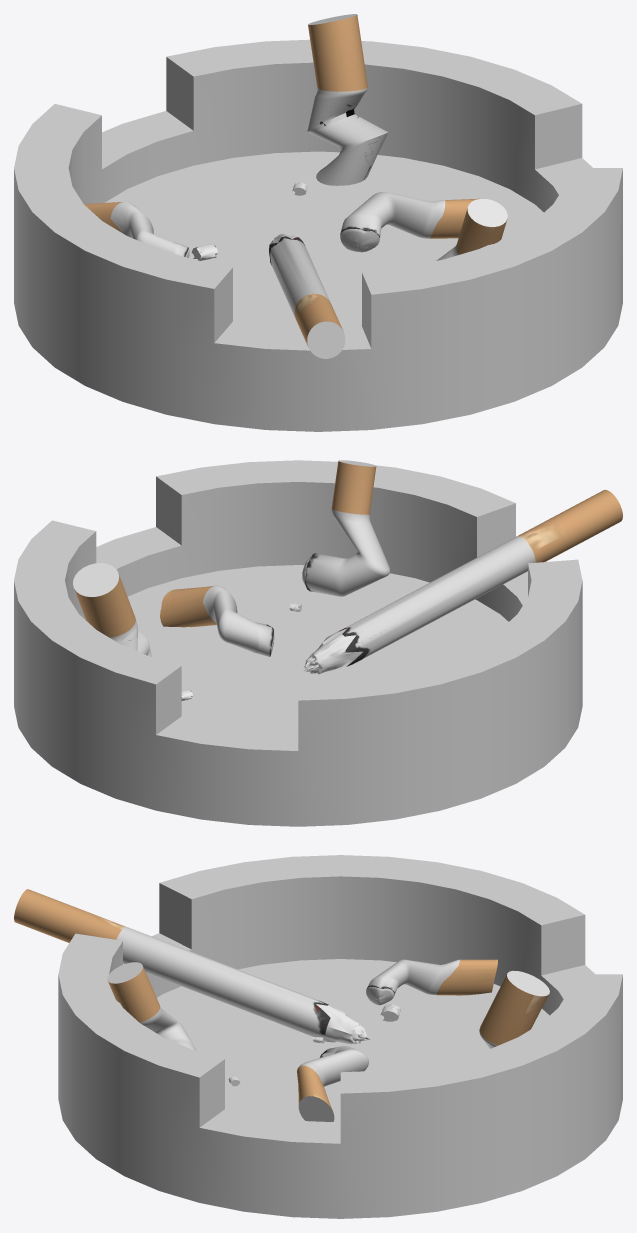
Rendered from ashtray.fbx.
The picture shows the model from 3 angles, top to bottom: view 1: azimuth 30°, elevation 25°; view 2: azimuth 150°, elevation 25°; view 3: azimuth 270°, elevation 25°; orthographic projection. The views are drawn at different scales.
Visible parts, largest first — view 1: ashtray, Ciggaret.001, MainCiggaret, Ciggaret.003, Ciggaret.002, Ciggaret.004; view 2: ashtray, MainCiggaret, Ciggaret.002, Ciggaret.003, Ciggaret.001; view 3: ashtray, MainCiggaret, Ciggaret.004, Ciggaret.001, Ciggaret.003, Ciggaret.002.
Boxes of the visible parts, <box> form: ashtray: <box>14,39,622,431</box>; Ciggaret.001: <box>307,14,388,185</box>; MainCiggaret: <box>269,233,345,358</box>; Ciggaret.003: <box>340,191,482,252</box>; Ciggaret.002: <box>436,198,507,260</box>; Ciggaret.004: <box>84,201,189,257</box>; ashtray: <box>14,460,582,826</box>; MainCiggaret: <box>302,490,622,674</box>; Ciggaret.002: <box>302,460,390,596</box>; Ciggaret.003: <box>160,585,274,656</box>; Ciggaret.001: <box>73,563,151,656</box>; ashtray: <box>58,855,622,1218</box>; MainCiggaret: <box>14,889,370,1044</box>; Ciggaret.004: <box>366,959,497,1005</box>; Ciggaret.001: <box>479,970,549,1048</box>; Ciggaret.003: <box>297,1046,368,1121</box>; Ciggaret.002: <box>107,962,196,1050</box>.
Size of the model in its own units: 10.46 by 3.61 by 11.29.
